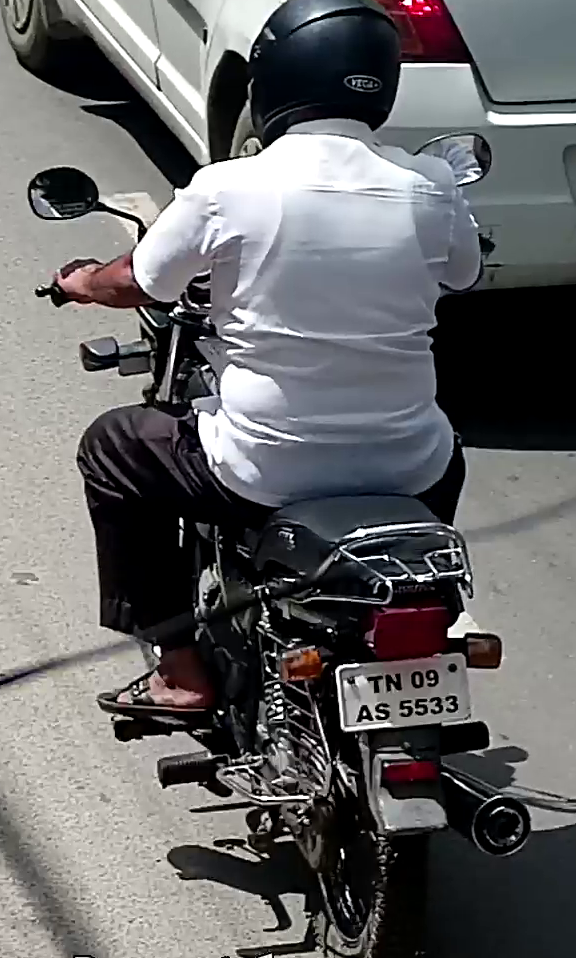0: (410, 670, 425, 689)
3: (428, 696, 445, 716), (445, 695, 459, 714)
5: (398, 699, 414, 718), (414, 697, 428, 717)
9: (425, 669, 440, 687)
A: (354, 704, 374, 723)
N: (384, 672, 403, 693)
P16: (335, 652, 473, 735)
S: (375, 702, 391, 721)
T: (367, 675, 385, 694)
